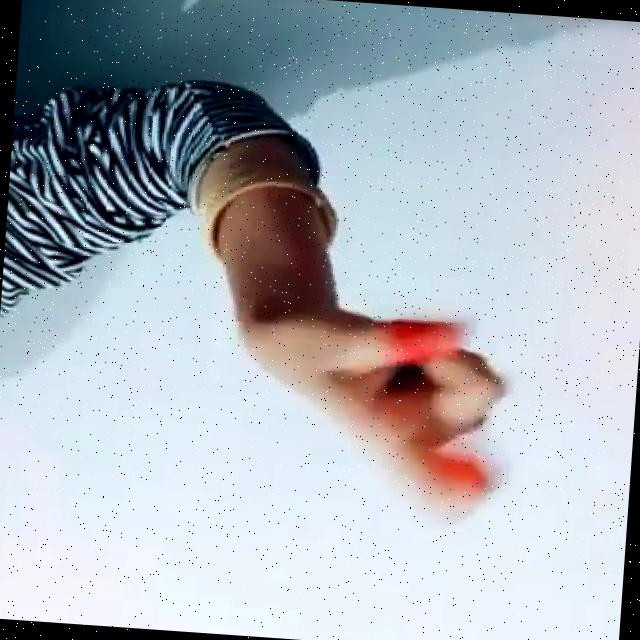Kapittha: (206, 286, 527, 547)
bangle: (184, 161, 358, 264)
